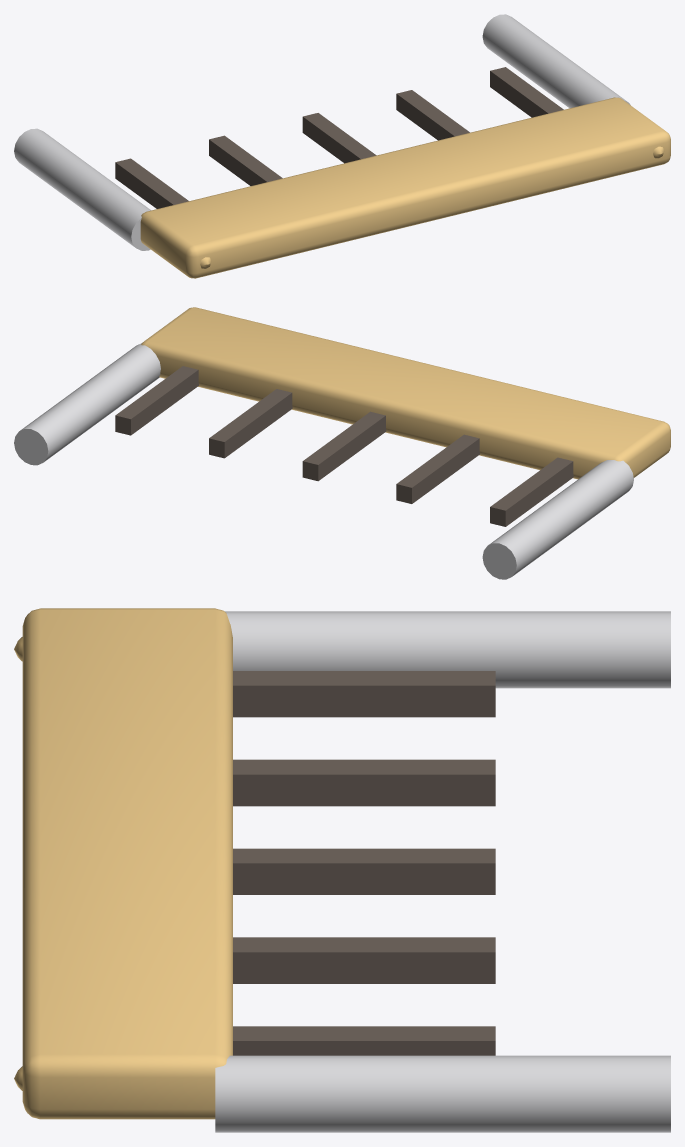
3 views of the same model, one above another, from view 1: azimuth 30°, elevation 25°; view 2: azimuth 150°, elevation 25°; view 3: azimuth 270°, elevation 25° (orthographic). The views are drawn at different scales.
Visible parts, largest first — view 1: tubular_bells_v5_default; view 2: tubular_bells_v5_default; view 3: tubular_bells_v5_default.
Boxes of the visible parts, bbox=[...] form: tubular_bells_v5_default: bbox=[14, 14, 670, 278]; tubular_bells_v5_default: bbox=[14, 307, 670, 579]; tubular_bells_v5_default: bbox=[14, 608, 670, 1132].
Size of the model in its own units: 0.644 by 0.047 by 0.375.
